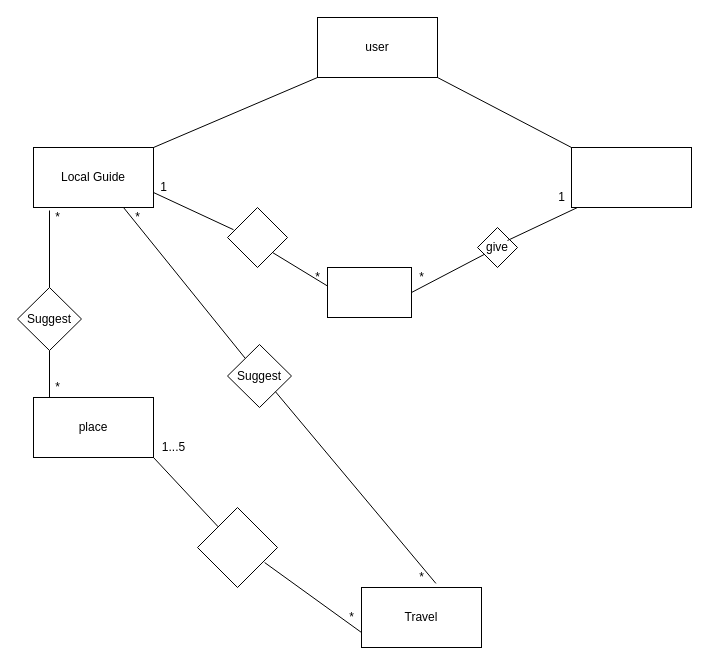
Image size: 709x665. Some labels were removed from this diagram. The shapes that lost their labels are listed below. From the top down, each one's box as (x1, y1, x2, y2) in pixels, then its label:
(570, 146, 692, 208): traveller
(226, 206, 288, 268): Recived
(326, 266, 412, 318): Review
(196, 506, 278, 588): Containing
